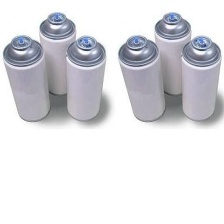aerosol_cans: (116, 35, 170, 123), (1, 31, 52, 124), (176, 32, 222, 125), (62, 32, 107, 122), (152, 9, 193, 98), (37, 10, 78, 98)
